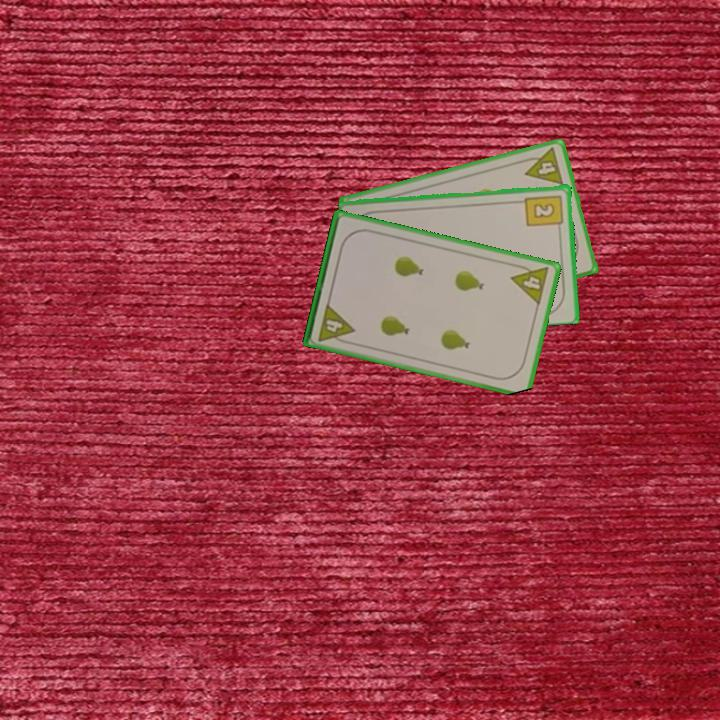2b: (522, 191, 566, 233)
4p: (518, 144, 566, 188), (508, 260, 552, 308), (314, 300, 357, 347)
